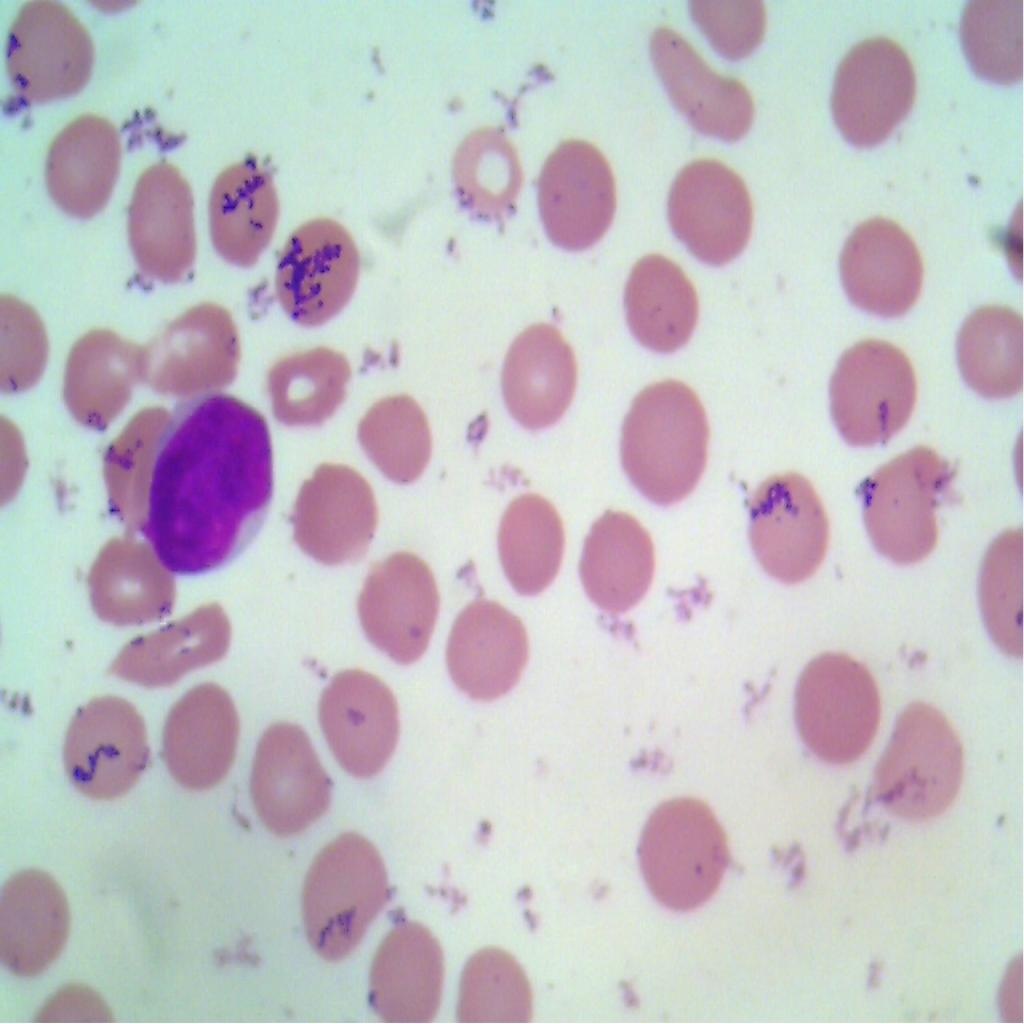Eritrosit: (826, 20, 936, 158), (644, 15, 758, 148), (775, 642, 884, 778), (829, 191, 933, 331), (868, 695, 971, 829), (621, 368, 715, 514), (76, 527, 198, 639), (528, 127, 633, 255), (298, 818, 390, 964), (58, 684, 159, 815), (859, 437, 962, 562), (636, 784, 735, 914), (742, 461, 838, 594), (155, 671, 246, 804), (661, 150, 763, 268), (269, 212, 363, 337), (306, 668, 406, 785), (0, 0, 106, 105), (822, 335, 914, 455), (615, 251, 715, 358), (95, 401, 169, 544), (356, 547, 442, 669), (496, 319, 581, 442), (39, 108, 124, 228), (289, 457, 376, 574), (248, 719, 334, 837), (128, 148, 201, 287), (570, 495, 654, 614), (446, 595, 529, 712), (0, 872, 86, 982), (202, 157, 282, 274), (353, 387, 441, 492), (142, 298, 238, 394), (118, 600, 236, 678), (366, 914, 446, 1023), (61, 318, 143, 424), (260, 338, 354, 429), (494, 485, 570, 592), (449, 121, 521, 225), (450, 938, 536, 1023), (954, 302, 1023, 404)
Limfoblast: (138, 385, 276, 581)
